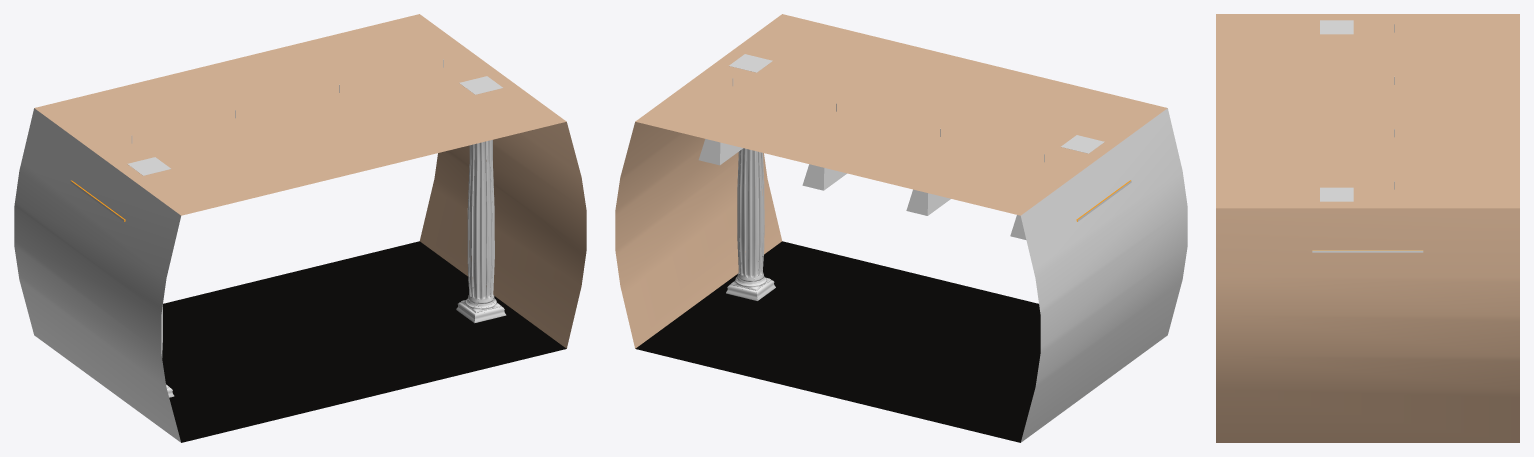
File: corridoor-old.gltf
The picture shows the model from 3 angles, left to right: view 1: azimuth 30°, elevation 25°; view 2: azimuth 150°, elevation 25°; view 3: azimuth 270°, elevation 25°; orthographic projection. The views are drawn at different scales.
Visible parts, largest first — view 1: Corridor, Pile.001, Pile.014; view 2: Corridor, Pile.001, Light02, Light03, Light04; view 3: Corridor, Pile.001, Pile.014, tube light.001.
Part boxes in pixels (<box>): Corridor: <box>14,14,586,442</box>; Pile.001: <box>456,76,506,323</box>; Pile.014: <box>127,157,174,397</box>; Corridor: <box>615,14,1187,442</box>; Pile.001: <box>726,54,775,300</box>; Light02: <box>906,189,950,215</box>; Light03: <box>802,164,846,190</box>; Light04: <box>698,139,743,165</box>; Corridor: <box>1216,14,1519,442</box>; Pile.001: <box>1320,187,1353,201</box>; Pile.014: <box>1320,20,1353,34</box>; tube light.001: <box>1312,250,1423,252</box>.
Bounding box in the file's own units: 8.19 × 4.34 × 4.91.
